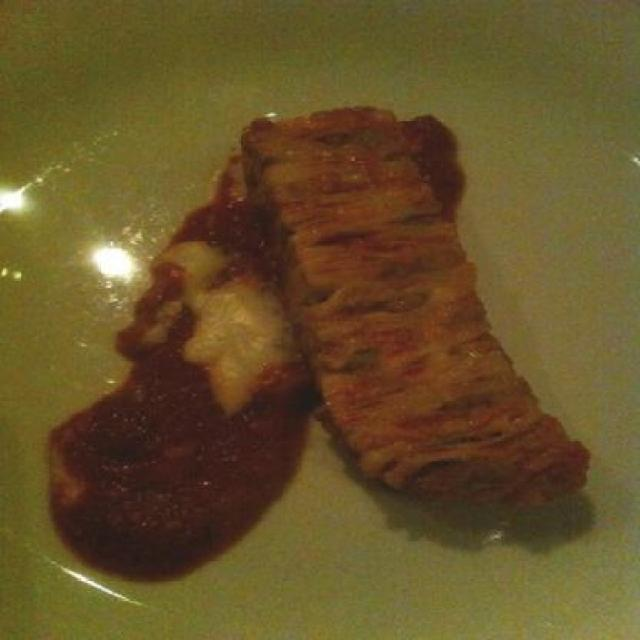Lasagna: (97, 95, 580, 588)
